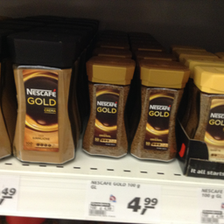coffee: (7, 31, 79, 165), (129, 60, 190, 163), (83, 56, 136, 158)
